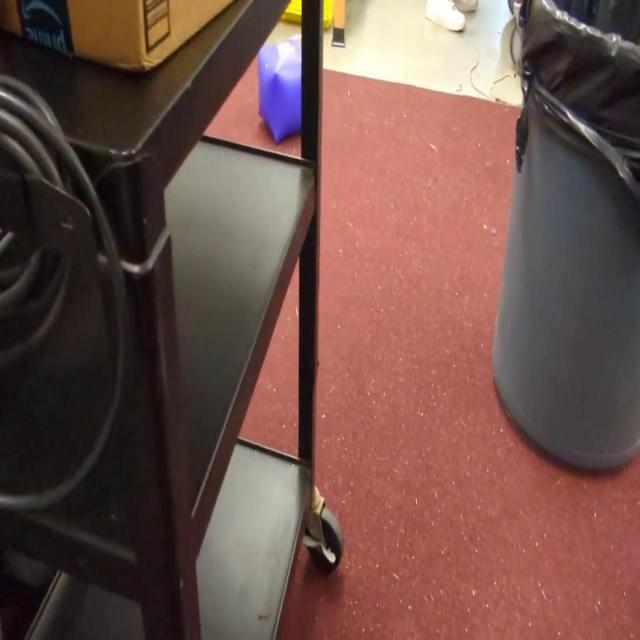frc_cube: (258, 41, 302, 142)
